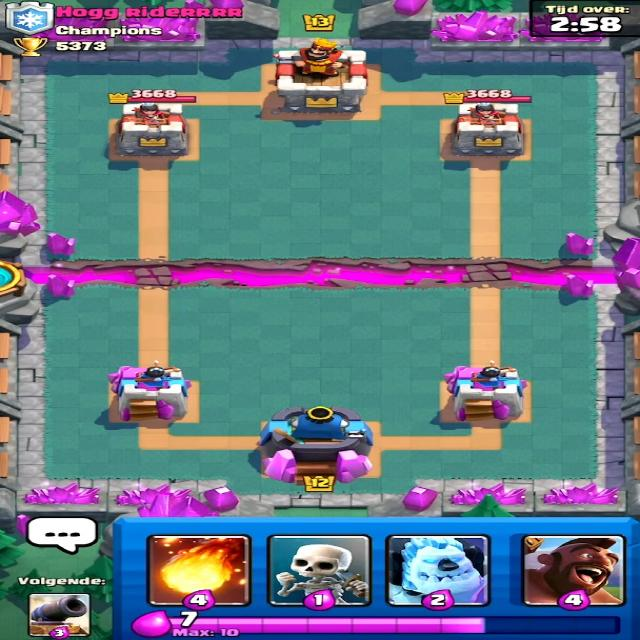Fireball_Card: (146, 538, 248, 604)
Hog_Rider_Card: (521, 530, 624, 609)
Ice_Golem_Card: (388, 536, 494, 606)
Skeleton_Card: (268, 532, 369, 604)
